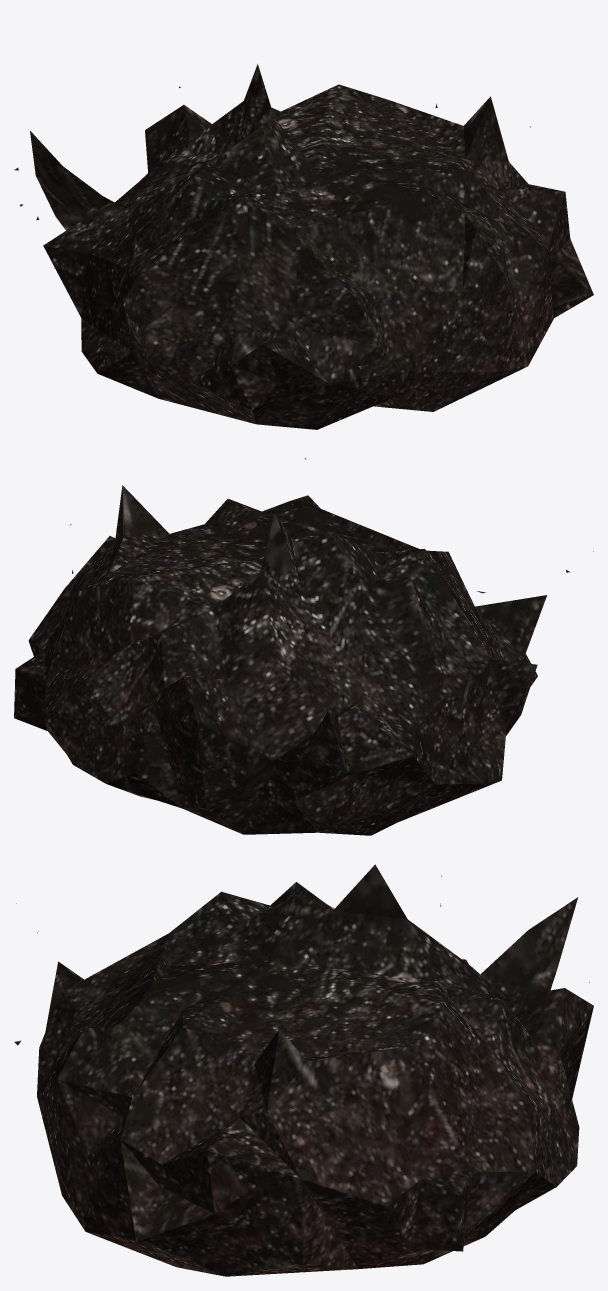
The model's file is urchin_lo.glb.
3 views of the same model, one above another, from view 1: azimuth 30°, elevation 25°; view 2: azimuth 150°, elevation 25°; view 3: azimuth 270°, elevation 25° (orthographic). The views are drawn at different scales.
Parts seen in each view (by area): view 1: urchin_far; view 2: urchin_far; view 3: urchin_far.
Part boxes in pixels (x1,y1,x2,y2): urchin_far: [14, 64, 593, 429]; urchin_far: [14, 458, 593, 835]; urchin_far: [14, 864, 593, 1276].
Bounding box in the file's own units: 0.0415 × 0.0249 × 0.0398.
Materials: 1 (1 with a texture image).
